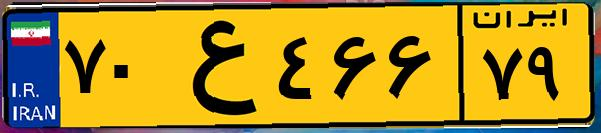0: (110, 28, 158, 98)
4: (270, 28, 330, 110)
6: (385, 28, 445, 110), (330, 28, 385, 110)
7: (57, 26, 110, 100), (475, 38, 525, 113)
9: (525, 38, 570, 115)
ع: (158, 12, 270, 120)
